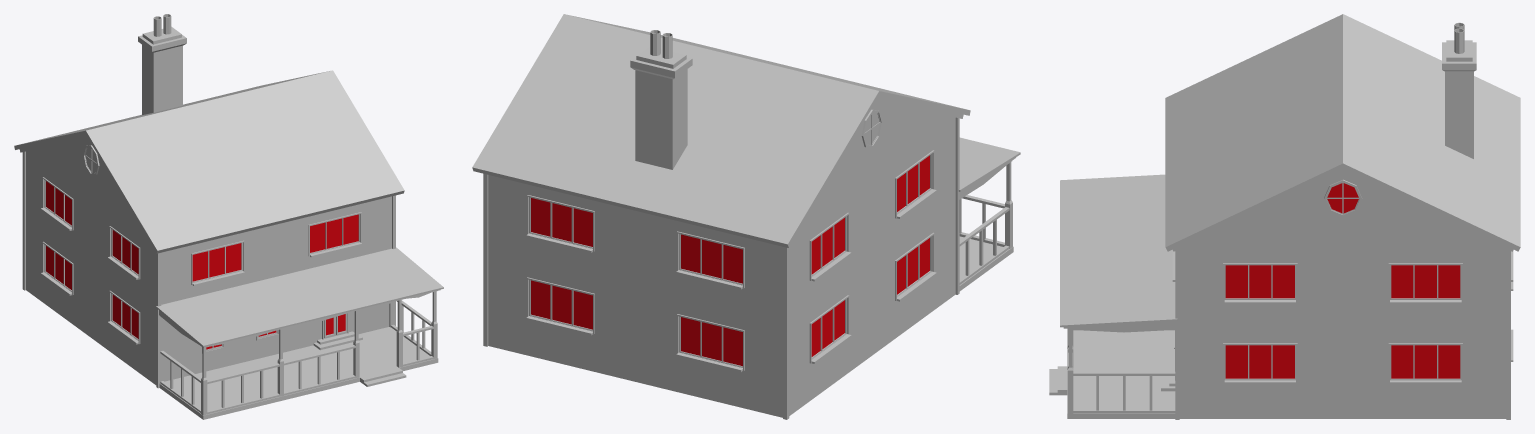
The model's file is SM_ordinary_houses_01.gltf.
The picture shows the model from 3 angles, left to right: view 1: azimuth 30°, elevation 25°; view 2: azimuth 150°, elevation 25°; view 3: azimuth 270°, elevation 25°; orthographic projection. The views are drawn at different scales.
Visible parts, largest first — view 1: ordinary_houses_01; view 2: ordinary_houses_01; view 3: ordinary_houses_01.
Part boxes in pixels (x1=…): ordinary_houses_01: x1=14, y1=14, x2=443, y2=419; ordinary_houses_01: x1=472, y1=14, x2=1020, y2=419; ordinary_houses_01: x1=1049, y1=14, x2=1520, y2=419.
Size of the model in its own units: 12 by 11.99 by 16.
